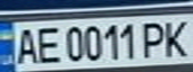0: (60, 22, 84, 63), (81, 21, 103, 62)
1: (118, 20, 142, 60), (103, 20, 121, 60)
A: (9, 25, 42, 66)
E: (33, 24, 63, 65)
K: (157, 16, 193, 58)
P: (139, 19, 172, 60)
